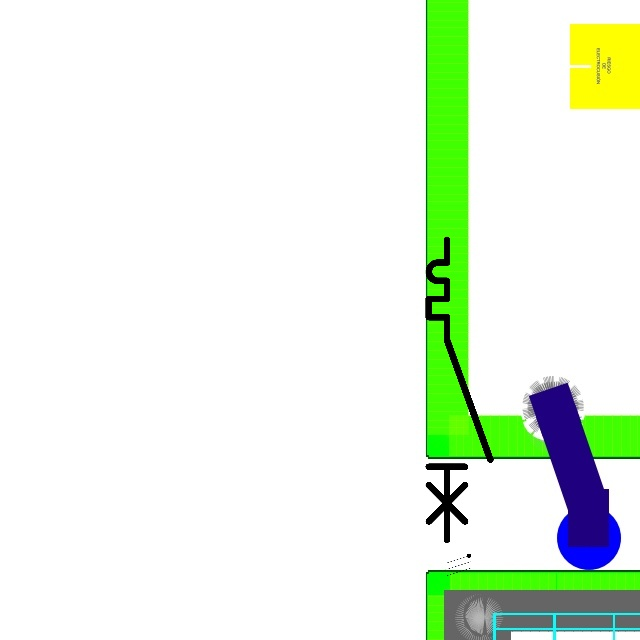interruptor_termomagnetico: (421, 232, 498, 547)
